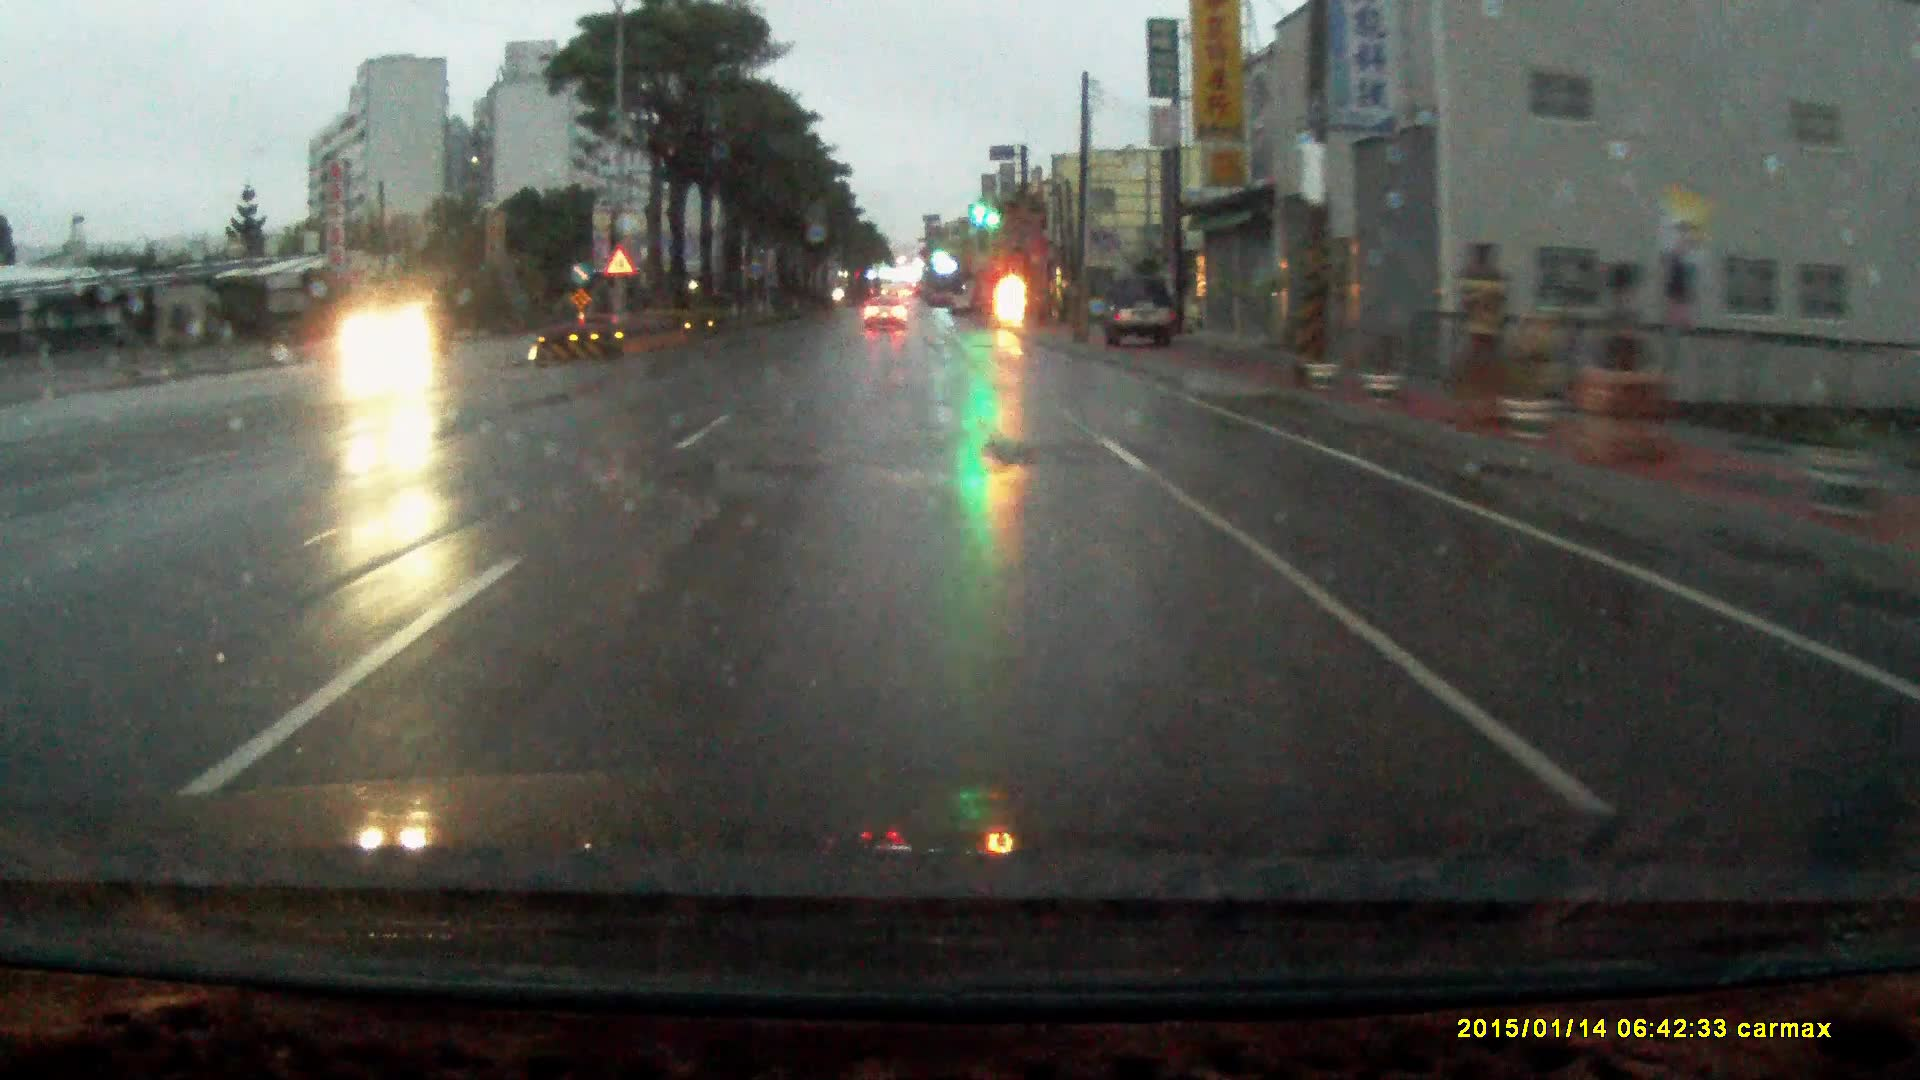vehicle: (1102, 281, 1180, 353), (862, 301, 909, 338)
